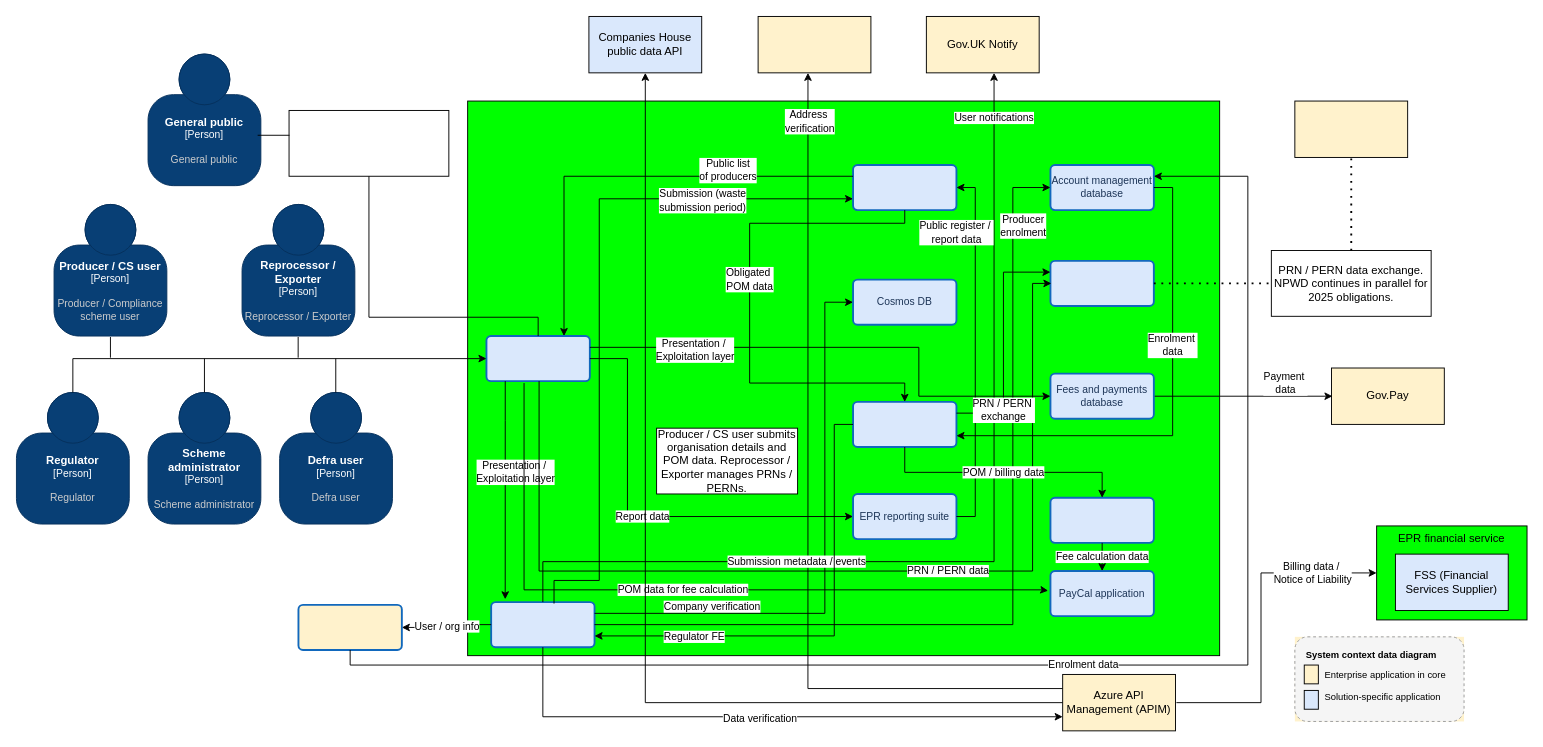
The diagram is 1543 pixels wide and 747 high, and some of its shapes have lost their labels. Each missing label, with the centre of its shape:
"Account service" belongs at pixel 349 626.
"Blob storage" belongs at pixel 904 187.
"EPR web frontend GUI" belongs at pixel 537 358.
"National Packaging Waste Database" belongs at pixel 1351 128.
"Packaging Recovery Note (PRN) database" belongs at pixel 1101 282.
"PayCal database" belongs at pixel 1101 519.
"Postcodes" belongs at pixel 814 44.
"Public list of producers (read only, via GOV.UK)" belongs at pixel 368 143.
"Report Packaging Data (RPD)" belongs at pixel 542 624.
"RPD data platform" belongs at pixel 904 423.
